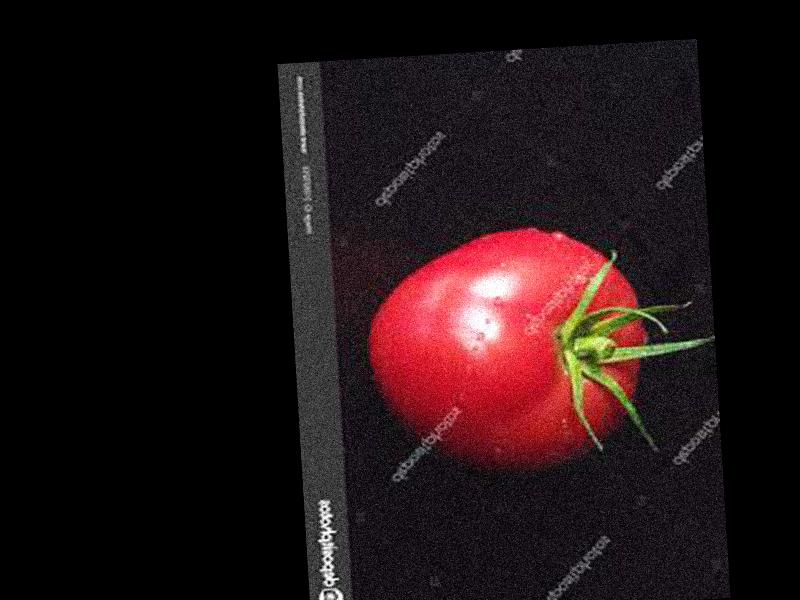Tomato: (363, 221, 652, 478)
